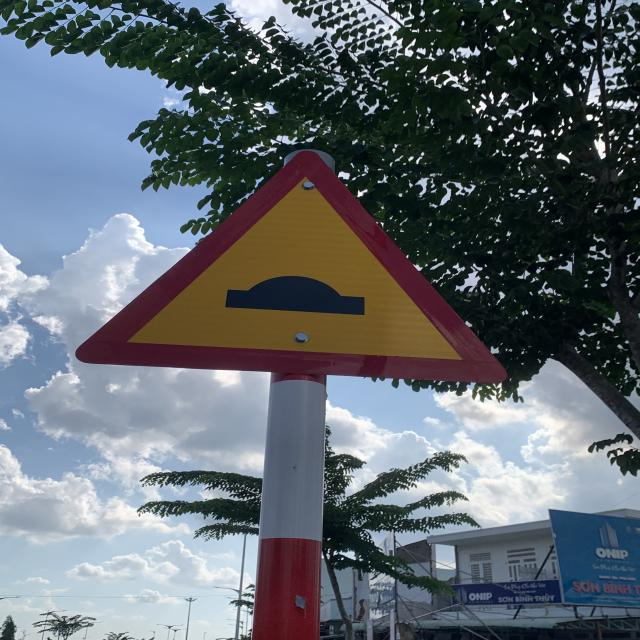Duong_Cong_Ben_Phai: (75, 154, 502, 386)
